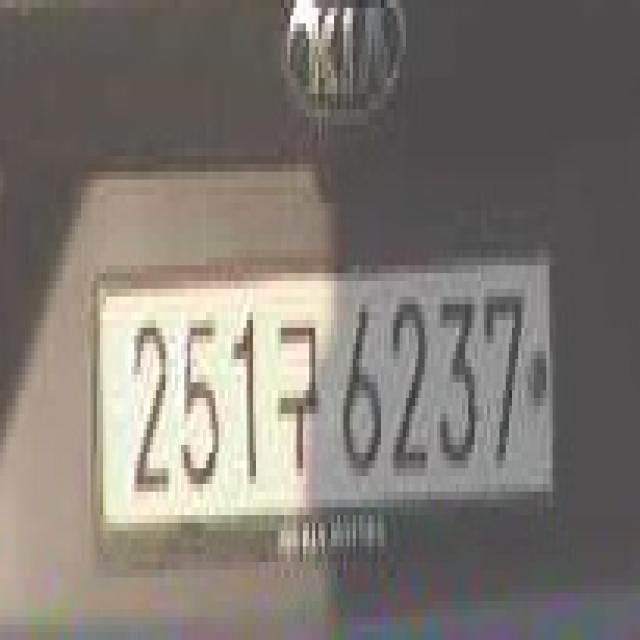plat: (90, 248, 556, 550)
